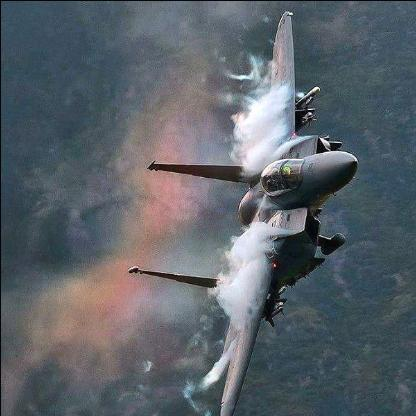F117: (128, 9, 361, 415)
